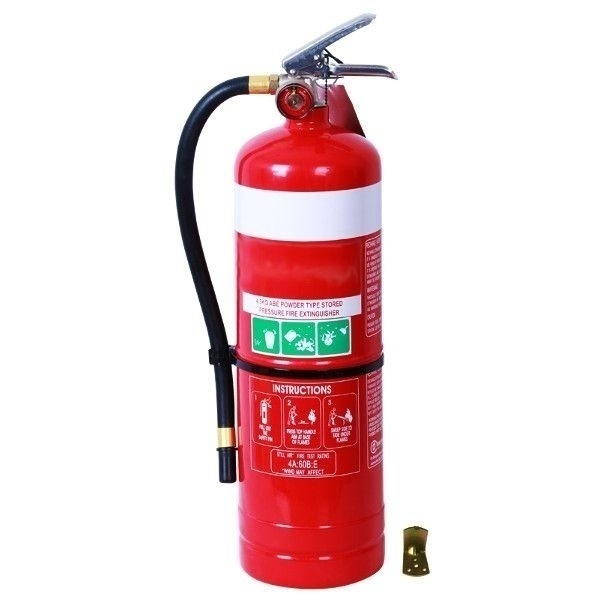fire_extinguisher: (174, 12, 398, 590)
